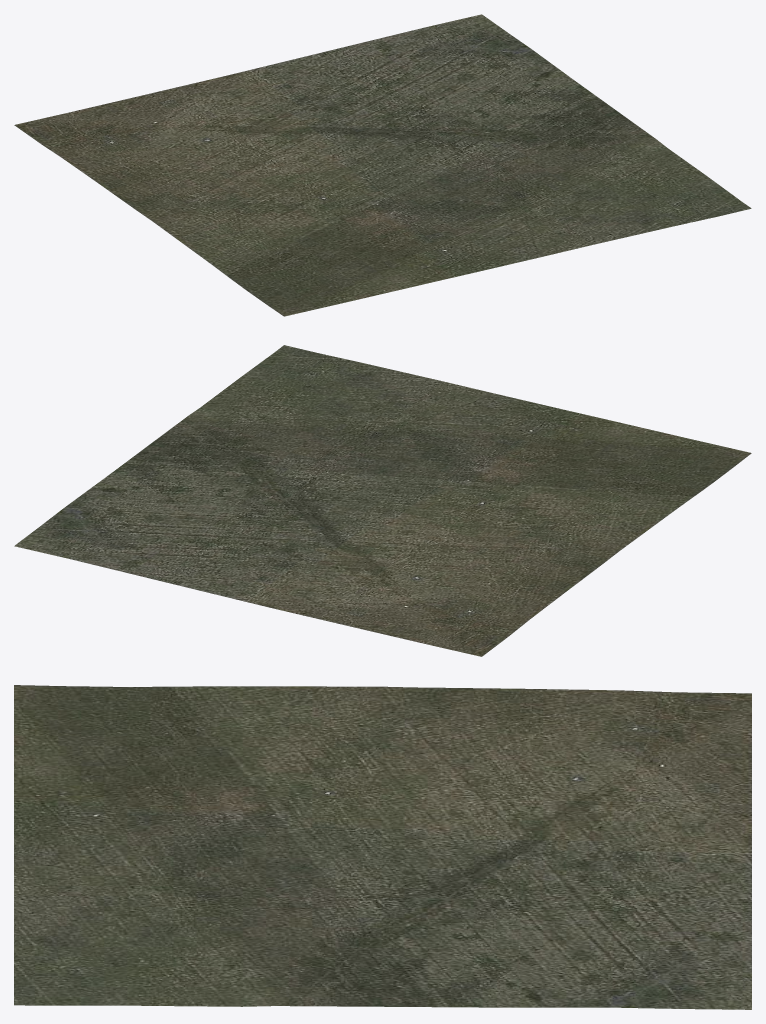
The model's file is map_15_8184_13780.dae.
3 renders of one model, top to bottom at view 1: azimuth 30°, elevation 25°; view 2: azimuth 150°, elevation 25°; view 3: azimuth 270°, elevation 25°, orthographic. The views are drawn at different scales.
Parts seen in each view (by area): view 1: Ter0; view 2: Ter0; view 3: Ter0.
Boxes of the visible parts, box(x1,y1,x2,y2) form: Ter0: box(14, 14, 751, 316); Ter0: box(14, 345, 751, 656); Ter0: box(14, 685, 751, 1009).
Bounding box in the file's own units: 63.88 × 63.88 × 1.25.
Materials: 3 (3 with a texture image).
